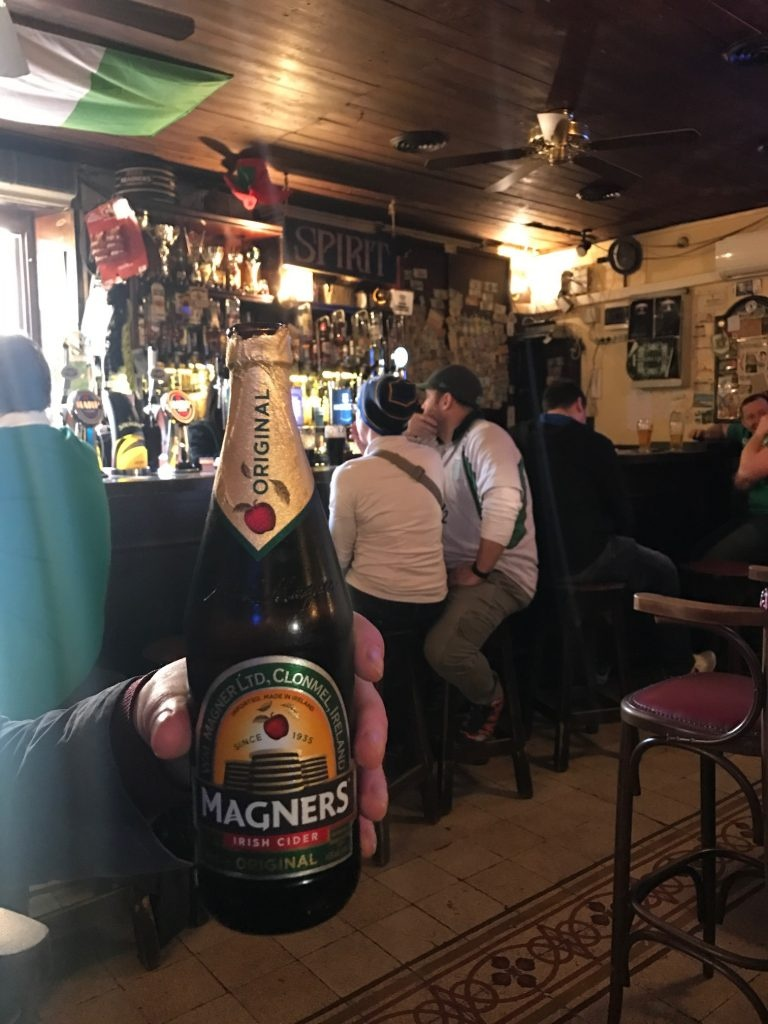beerBottle: (194, 310, 354, 919)
